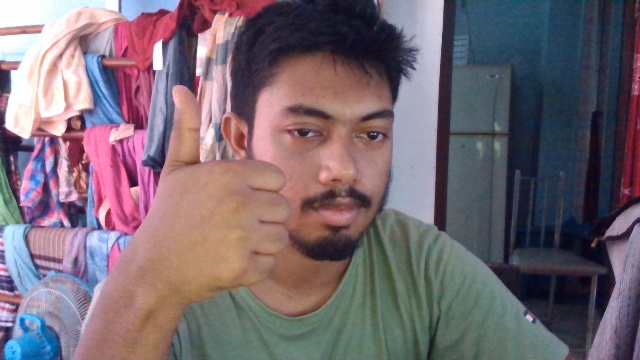yes: (131, 77, 296, 312)
